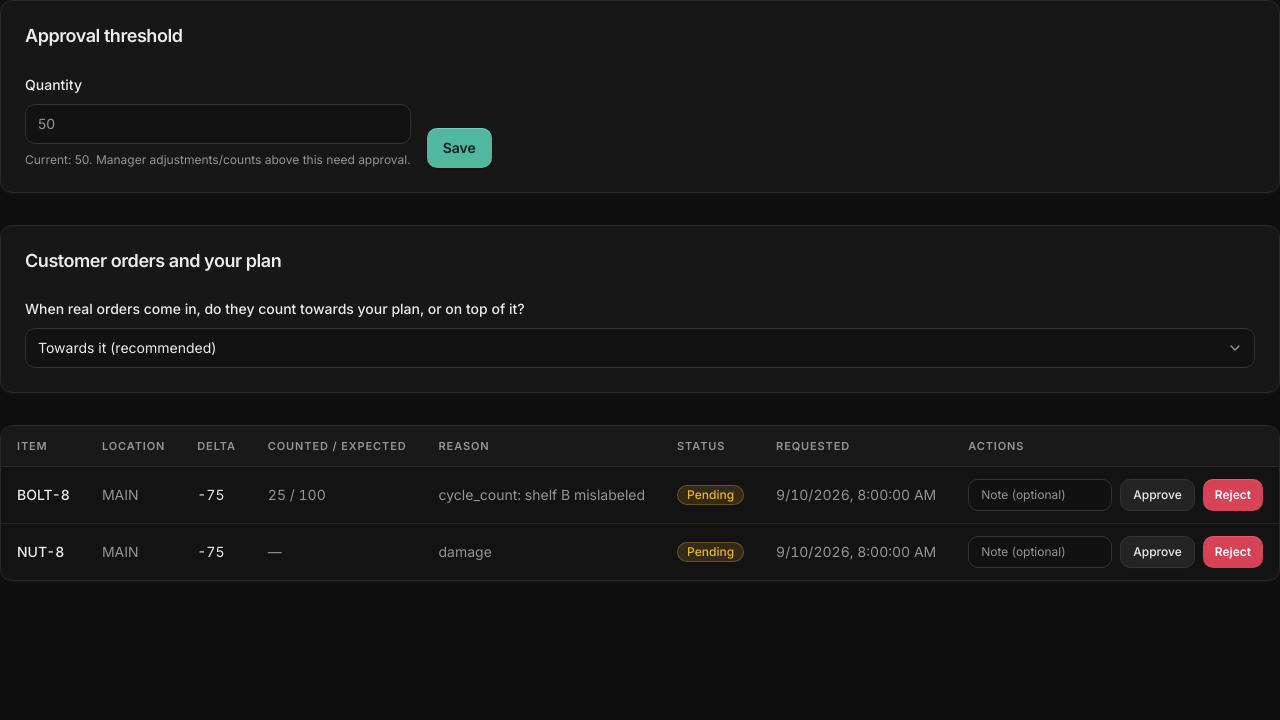
Test: ApprovalsPanel › shows approve and reject errors
Expected: the text "BOLT-8" is shown, [1,466,86,523]
Click the button "Approve" in the row of "BOLT-8" at (1157, 494), box [1120,478,1195,510]
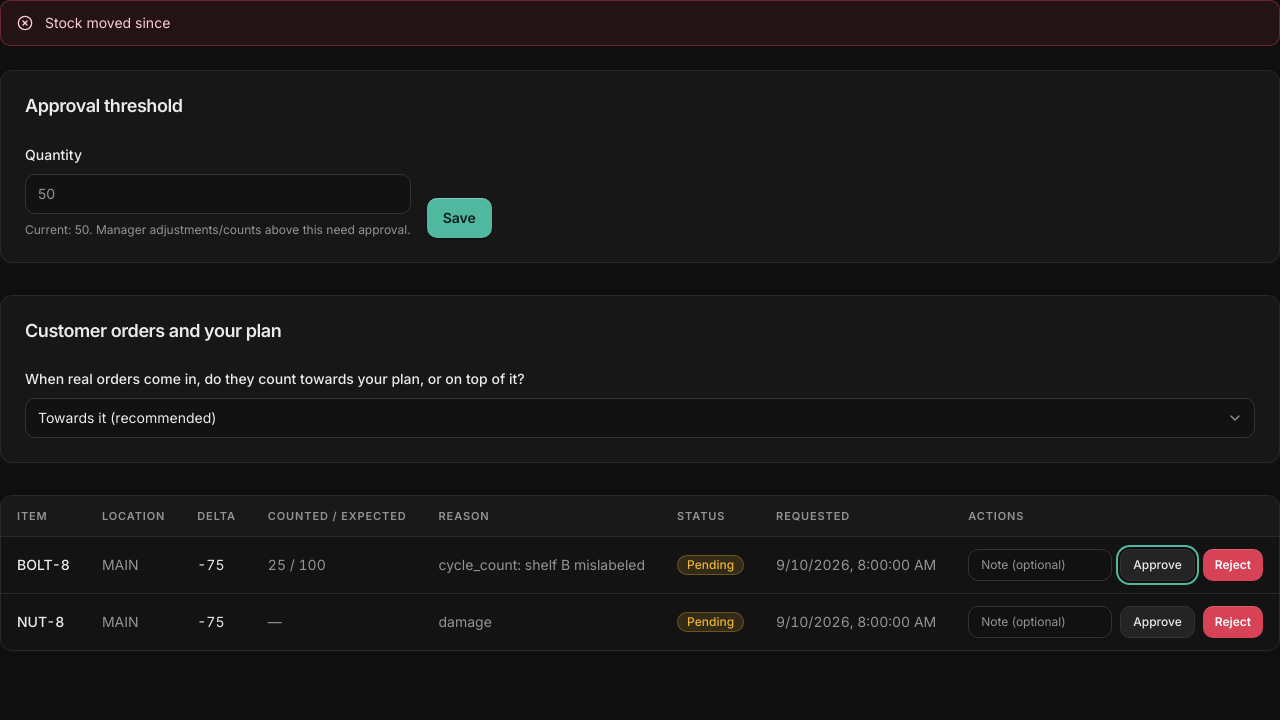
Expected: the text "Stock moved since" is shown, [45,13,170,33]
Click the button "Reject" in the row of "NUT-8" at (1233, 622), box [1203,606,1263,638]
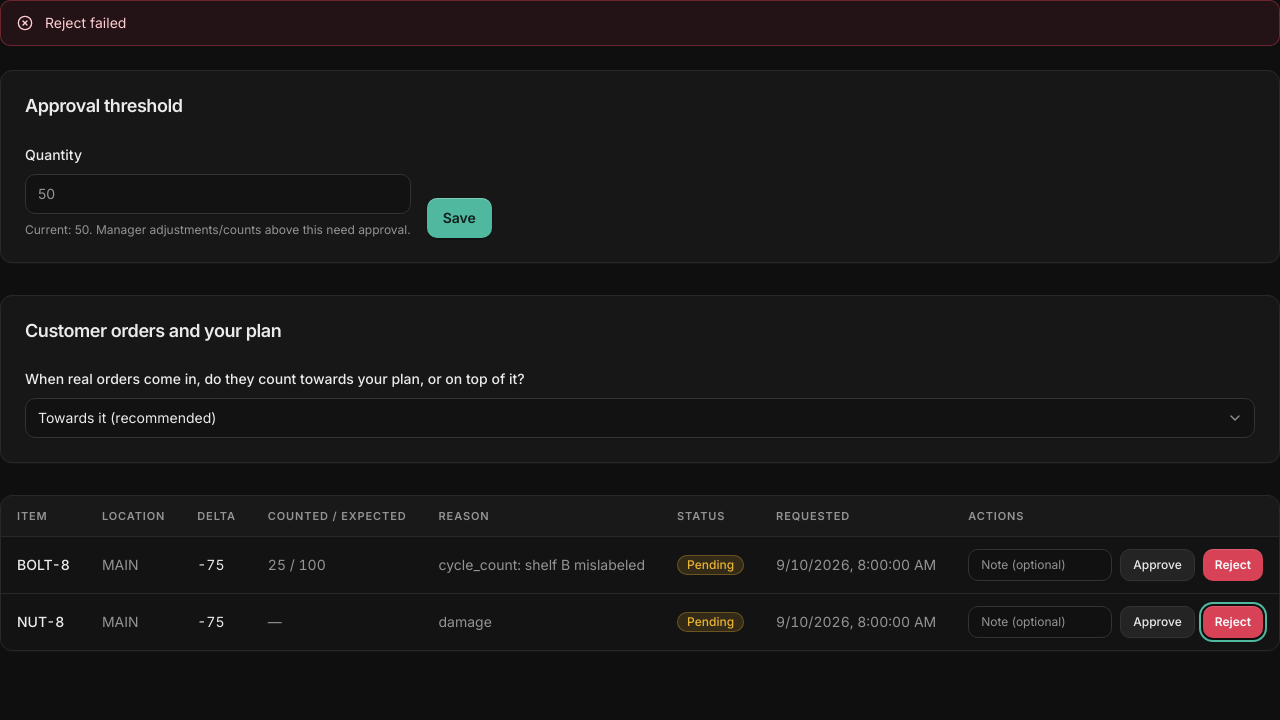
Expected: the text "Reject failed" is shown, [45,13,126,33]
